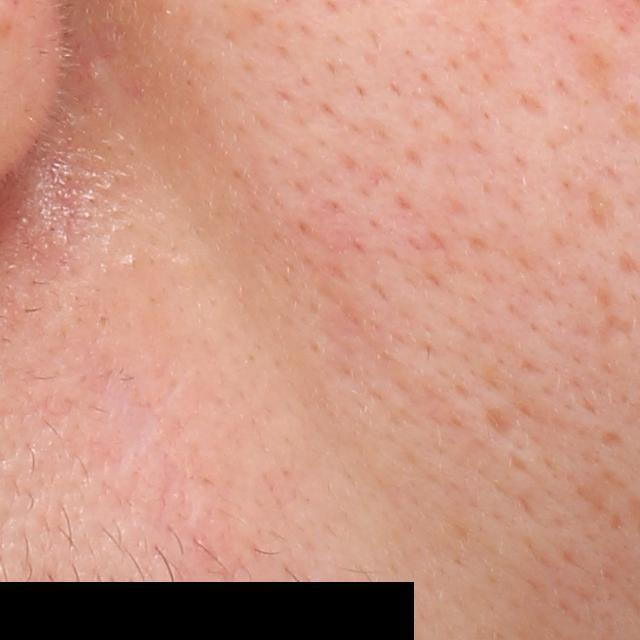atrophic_scar: (588, 182, 625, 233), (486, 404, 521, 443), (592, 318, 635, 343)
